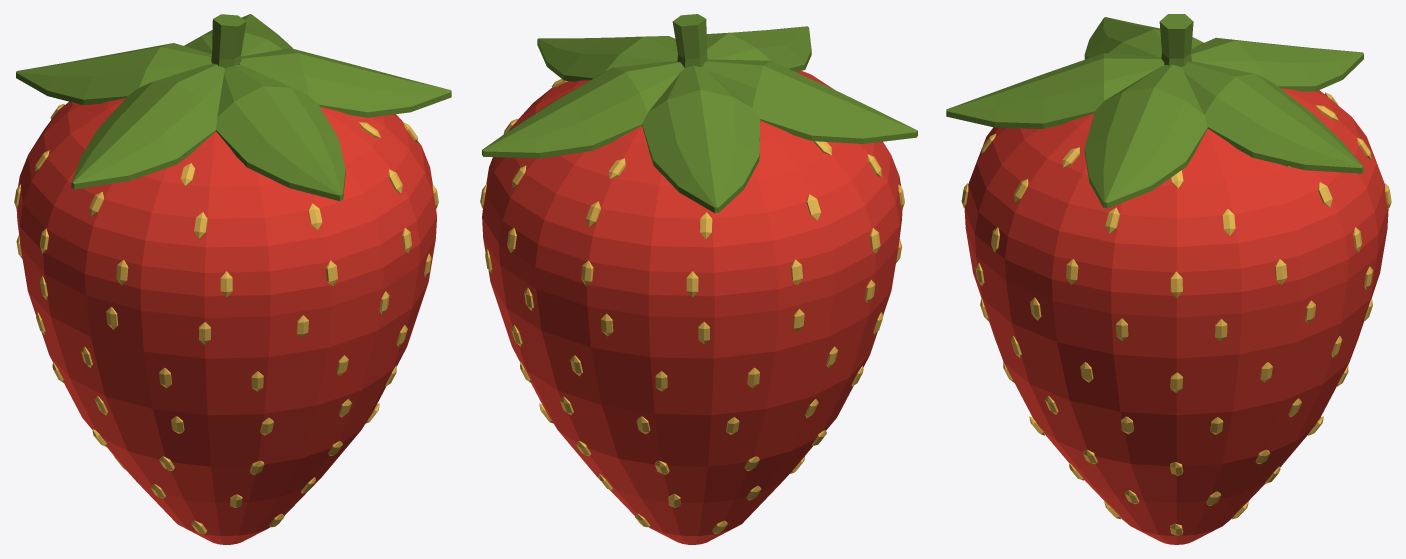
Rendered from strawberry.glb.
The picture shows the model from 3 angles, left to right: view 1: azimuth 30°, elevation 25°; view 2: azimuth 150°, elevation 25°; view 3: azimuth 270°, elevation 25°; orthographic projection.
Visible parts, largest first — view 1: Strawberry tapered full body; view 2: Strawberry tapered full body; view 3: Strawberry tapered full body.
Boxes of the visible parts, left/top/right/bottom form: Strawberry tapered full body: left=14, top=14, right=451, bottom=544; Strawberry tapered full body: left=480, top=14, right=917, bottom=544; Strawberry tapered full body: left=946, top=14, right=1391, bottom=544.
Bounding box in the file's own units: 0.035 × 0.0455 × 0.0355.
